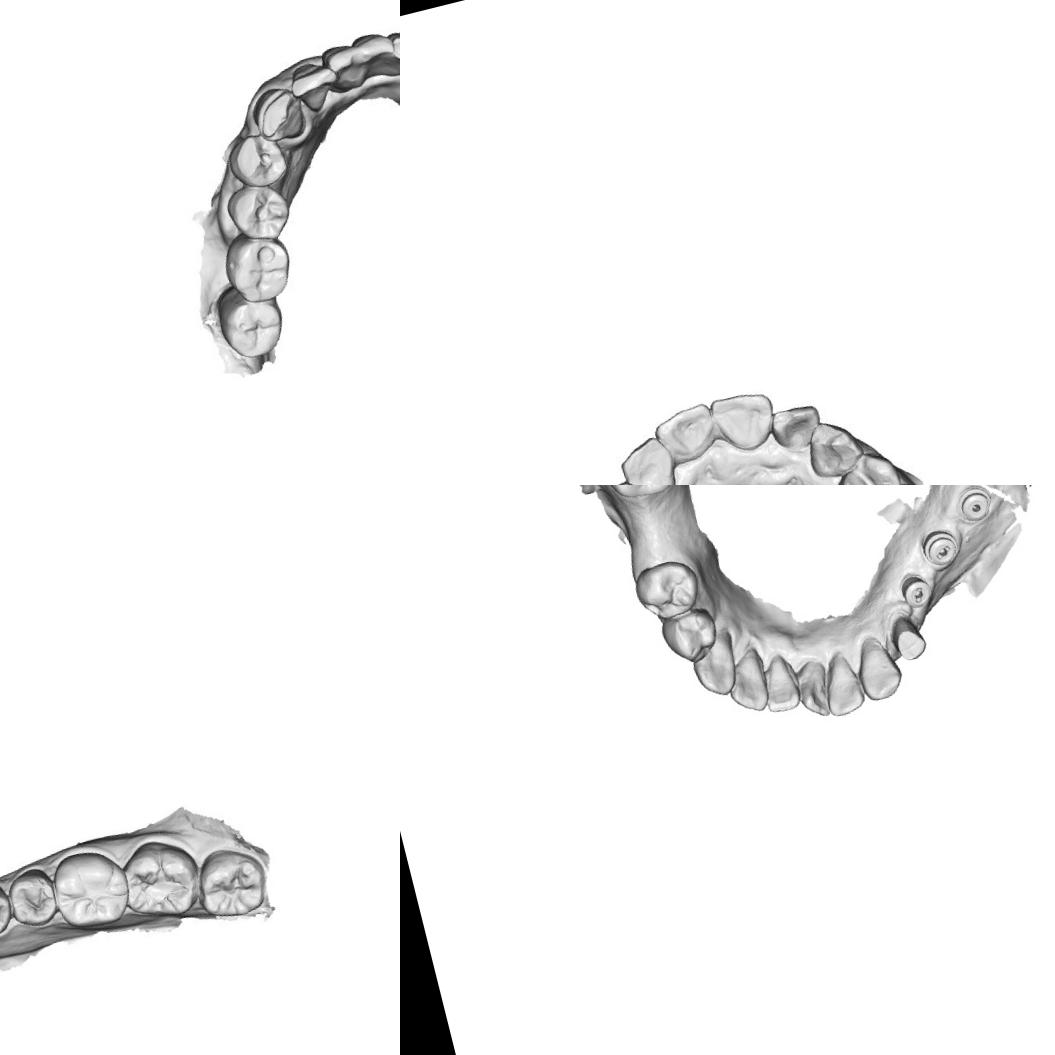abutment: (886, 609, 931, 665)
canine: (684, 631, 745, 702), (849, 630, 907, 704), (246, 81, 312, 146), (801, 416, 866, 482)
implant: (955, 485, 997, 525)
implant_minus: (918, 525, 962, 570), (897, 569, 936, 611)
incisor: (706, 386, 782, 461), (648, 396, 722, 468), (718, 644, 775, 718), (815, 644, 870, 718), (614, 434, 682, 485), (754, 648, 804, 716), (768, 398, 826, 454), (788, 655, 836, 722), (322, 38, 370, 95), (290, 56, 340, 110), (352, 29, 400, 84), (385, 22, 400, 79)
molar: (44, 840, 138, 939), (115, 834, 202, 924), (208, 277, 288, 369), (188, 839, 269, 924), (219, 229, 298, 310), (591, 485, 683, 506)
premolar: (221, 174, 296, 250), (629, 553, 707, 625), (219, 124, 294, 196), (656, 604, 724, 670), (826, 440, 915, 485), (8, 867, 57, 929), (0, 882, 12, 945)
